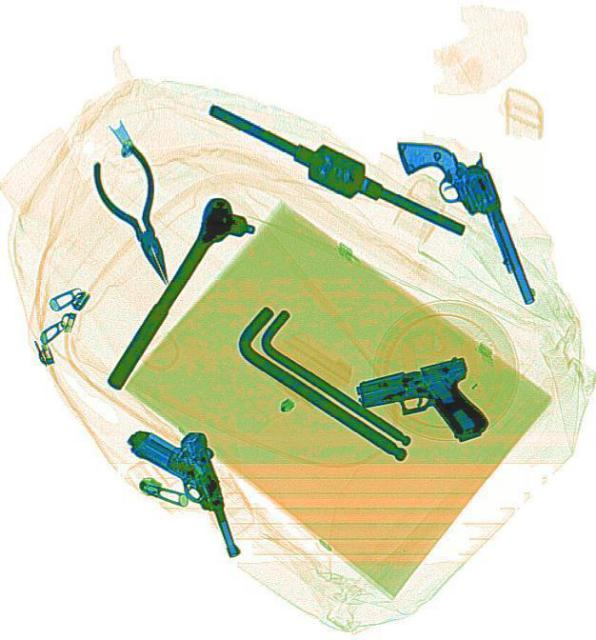Gun: (391, 112, 538, 326), (123, 410, 246, 578), (349, 350, 490, 462)
Pliers: (82, 141, 193, 295)
